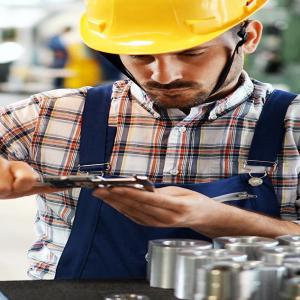yellow: (77, 1, 264, 110)
